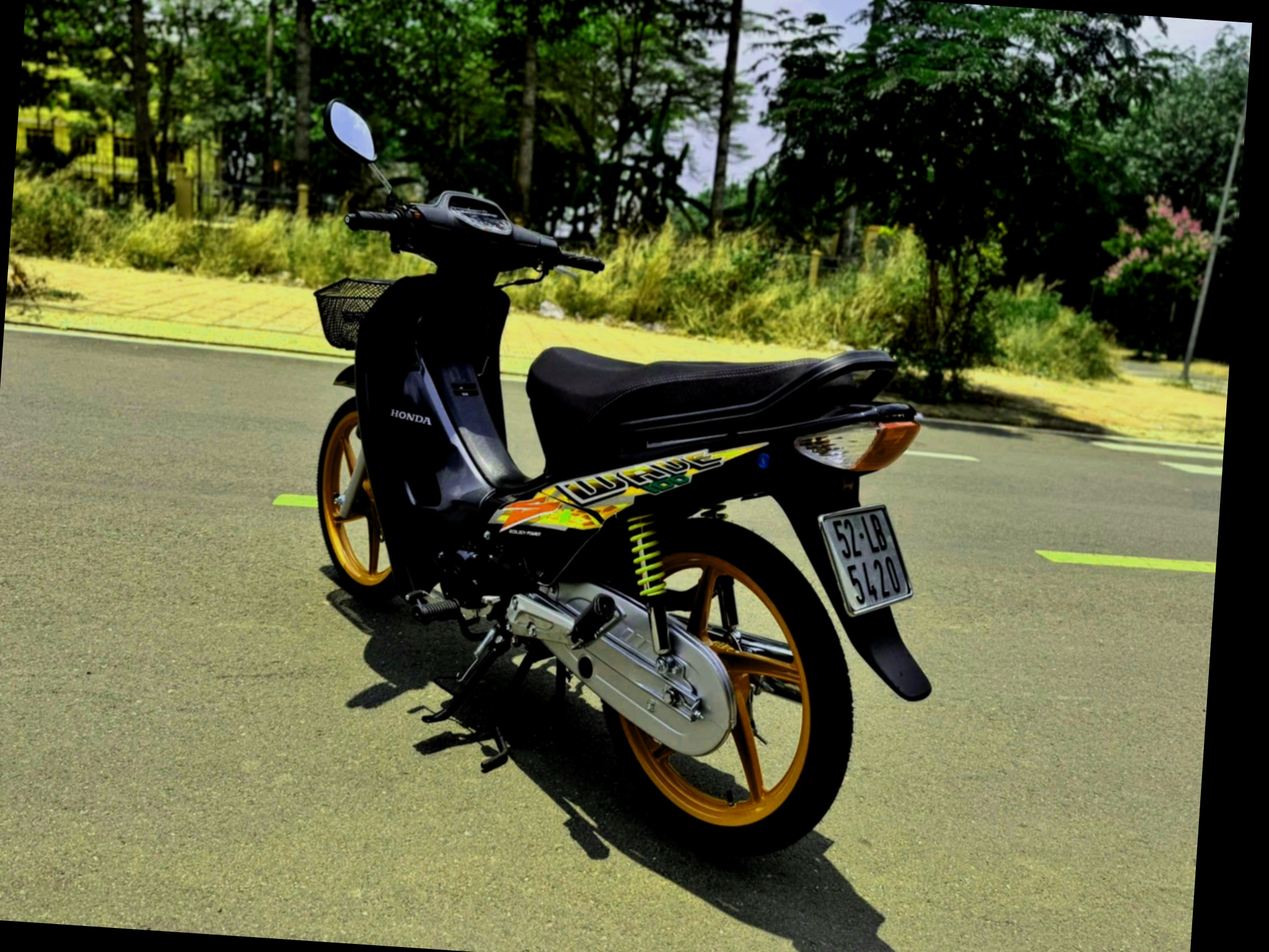Bien-so: (836, 510, 957, 646)
